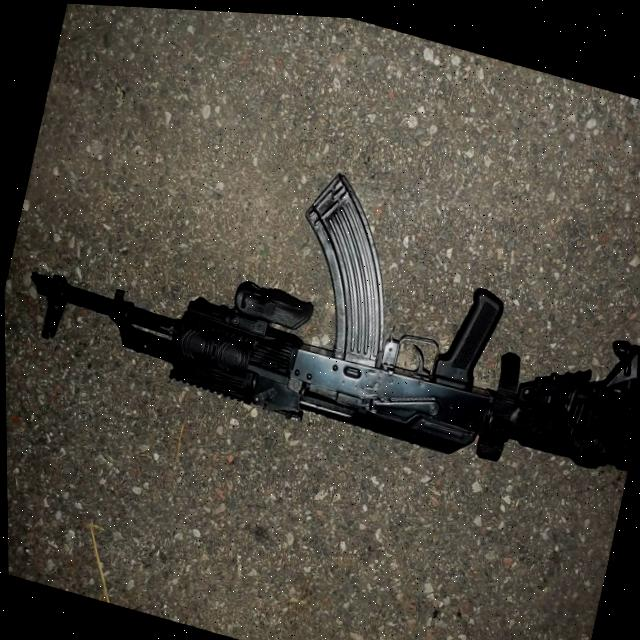firearm: (10, 94, 640, 508)
